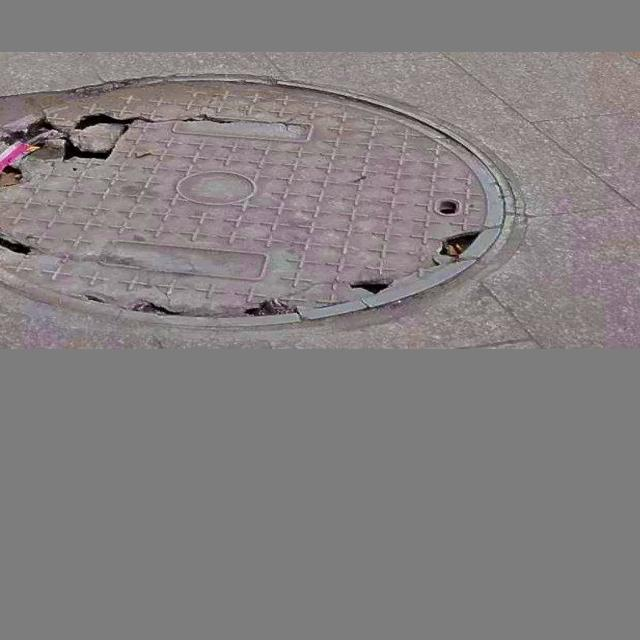broke: (0, 75, 515, 328)
